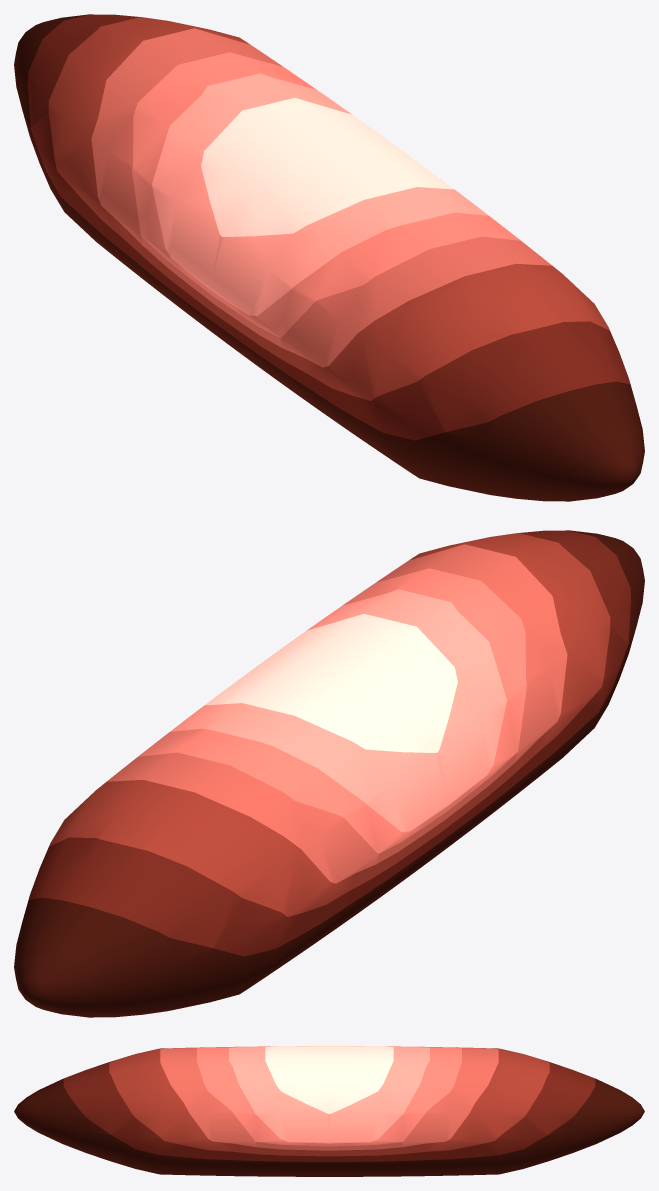
Rendered from red_needle.glb.
3 views of the same model, one above another, from view 1: azimuth 30°, elevation 25°; view 2: azimuth 150°, elevation 25°; view 3: azimuth 270°, elevation 25° (orthographic). The views are drawn at different scales.
Visible parts, largest first — view 1: red_needle; view 2: red_needle; view 3: red_needle.
Part boxes in pixels (box(x1,y1,x2,y2)): red_needle: box(14, 14, 644, 501); red_needle: box(14, 530, 644, 1017); red_needle: box(14, 1046, 644, 1176).
Size of the model in its own units: 2.9 by 2.54 by 12.6.
